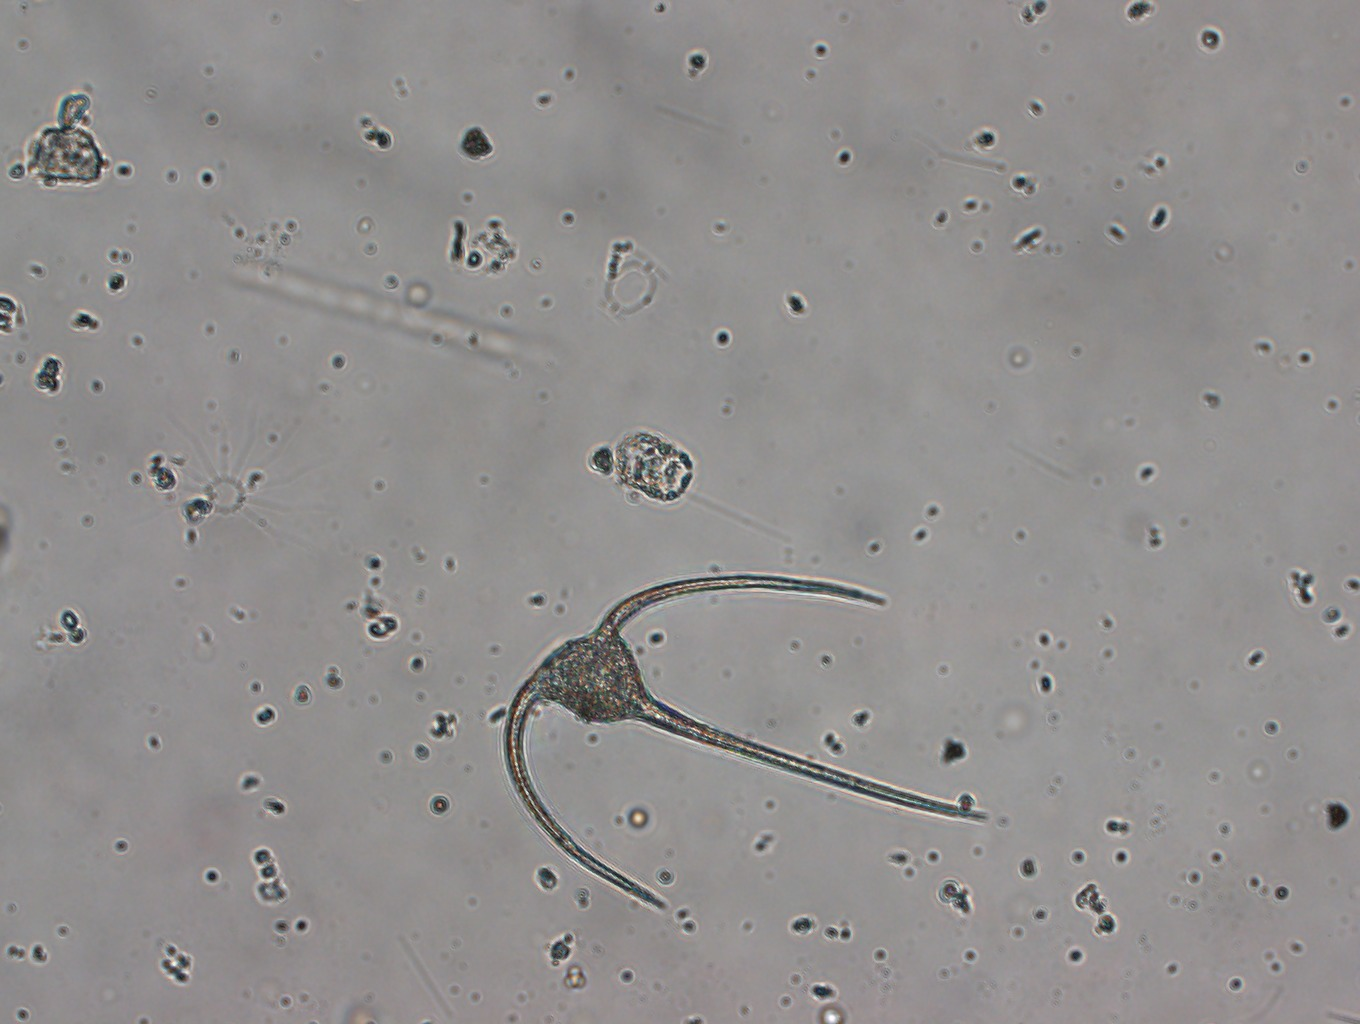ceratium trichoceros: (506, 574, 992, 916)
